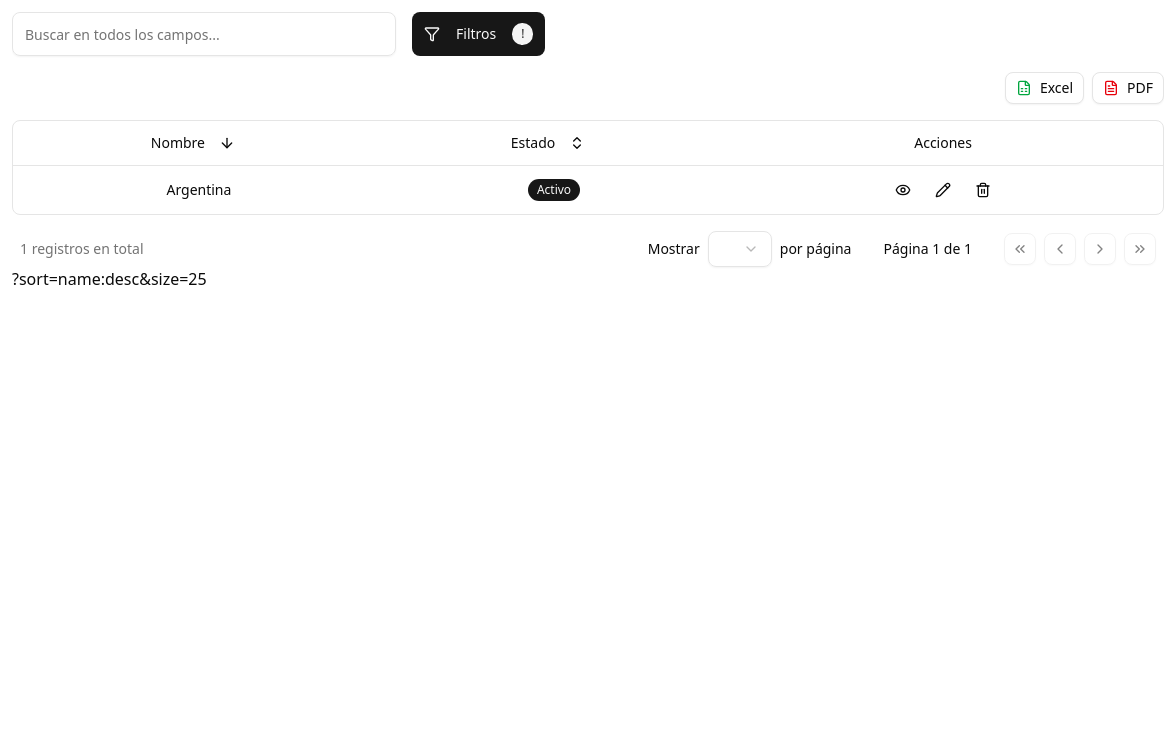
CountriesTable sorting › keeps header sorting, controls, URL and pagination on one canonical value
This screenshot has width=1176, height=732.
Click the button "Filtros !" at (479, 34), box [412,12,546,56]
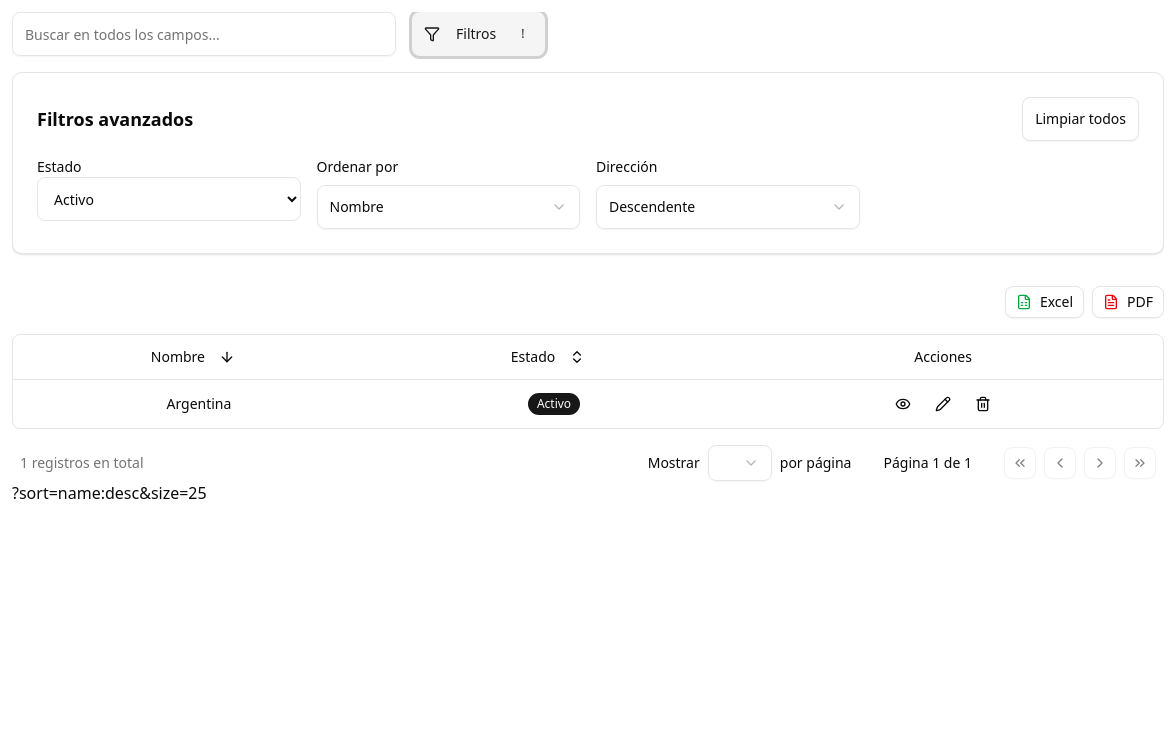
Result: the dropdown named "Ordenar por" reads "Nombre" at [316,185,580,229]
Result: the dropdown named "Dirección" reads "Descendente" at [596,185,860,229]
Click the button "Nombre" at (193, 357), box [141,335,245,379]
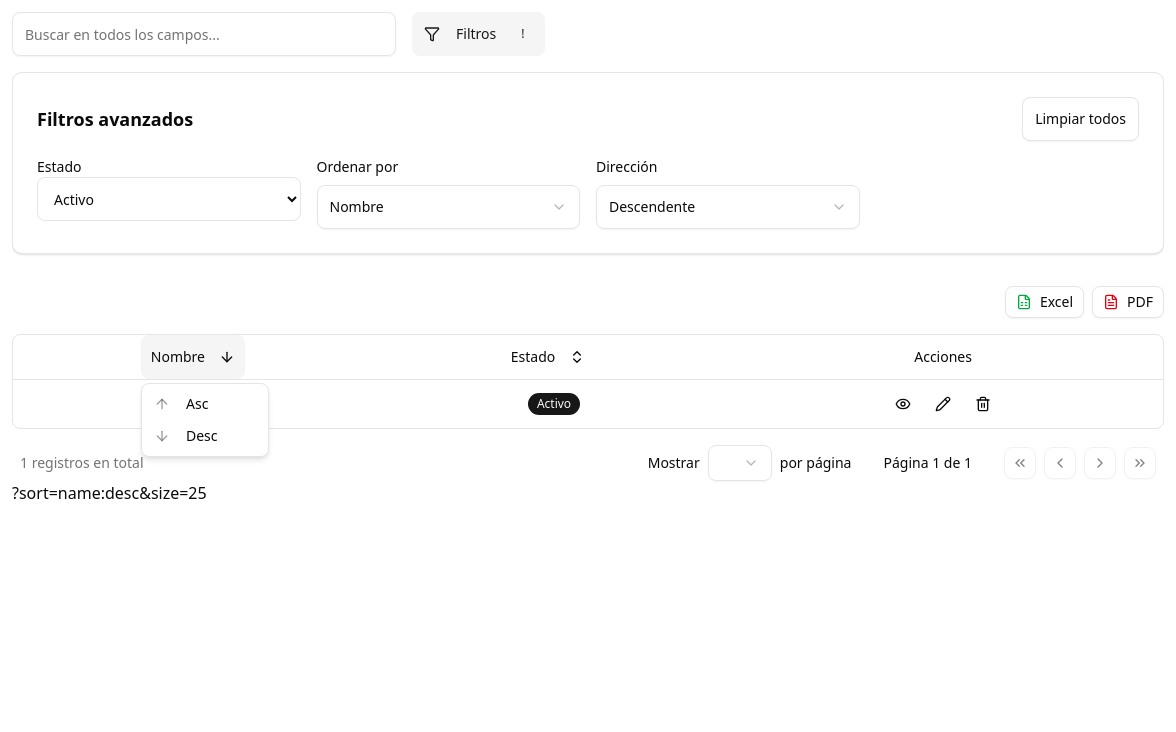
Click the menu item "Asc" at (162, 404), box [154,394,208,413]
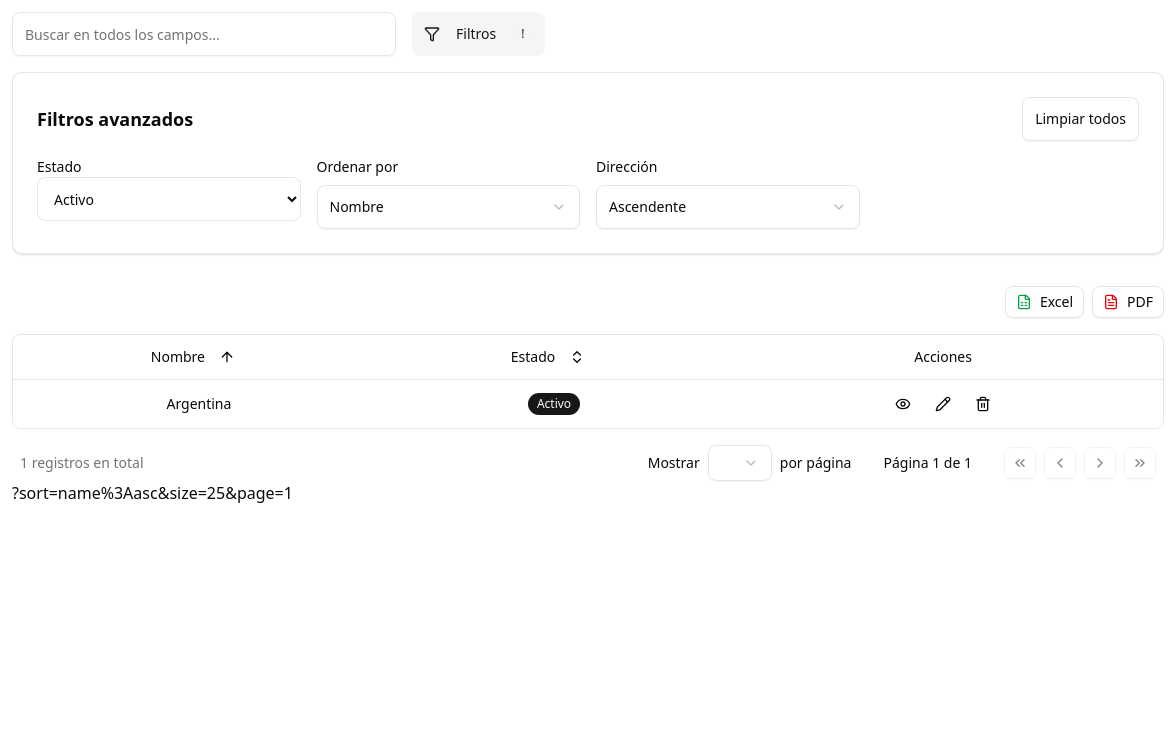
Result: the text with test id "search" shows "sort=name%3Aasc&size=25&page=1" at [12,482,293,504]
